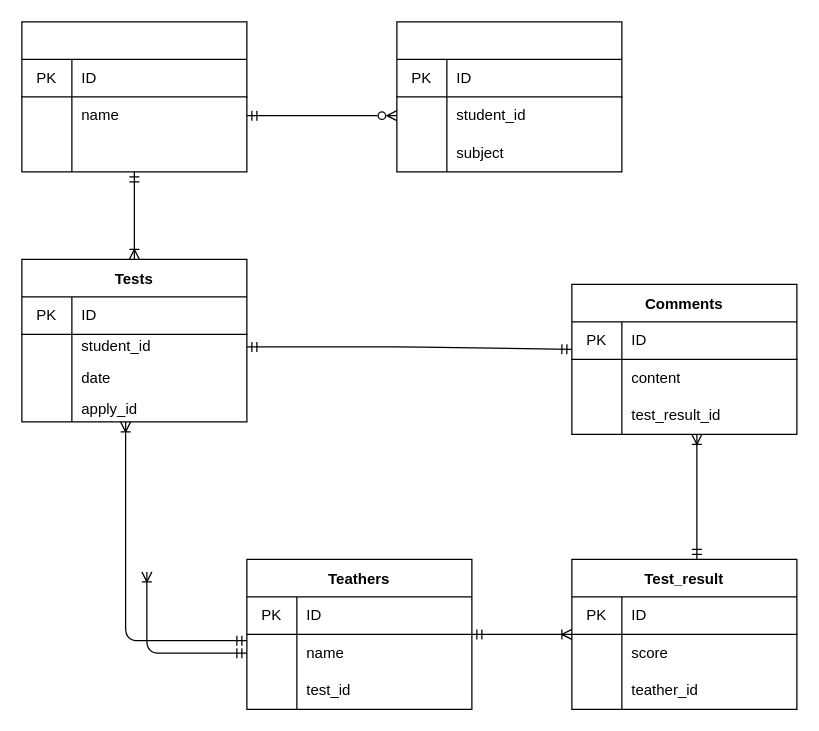
Image size: 819x731. Some labels were removed from this diagram. Each missing label, with the box of its shape:
Applys: (396, 21, 622, 172)
Students: (21, 21, 247, 172)
